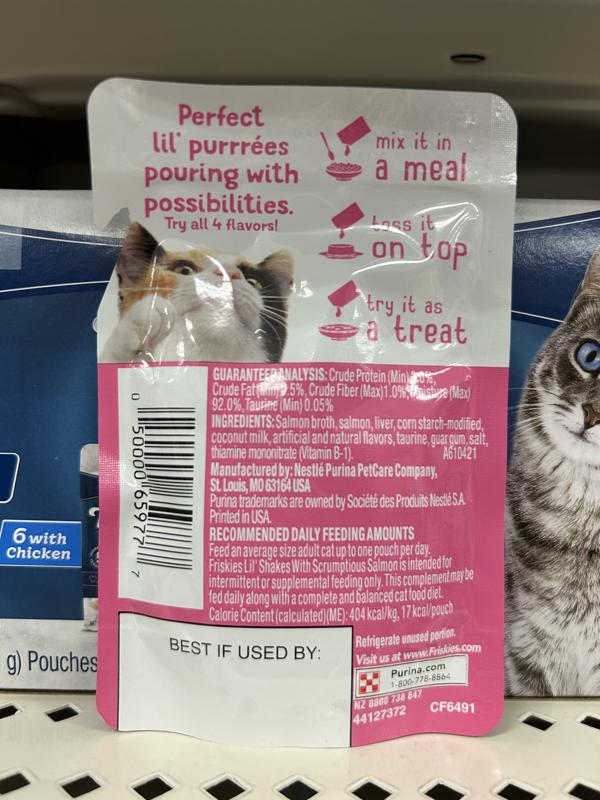ingredients: (208, 413, 492, 462)
